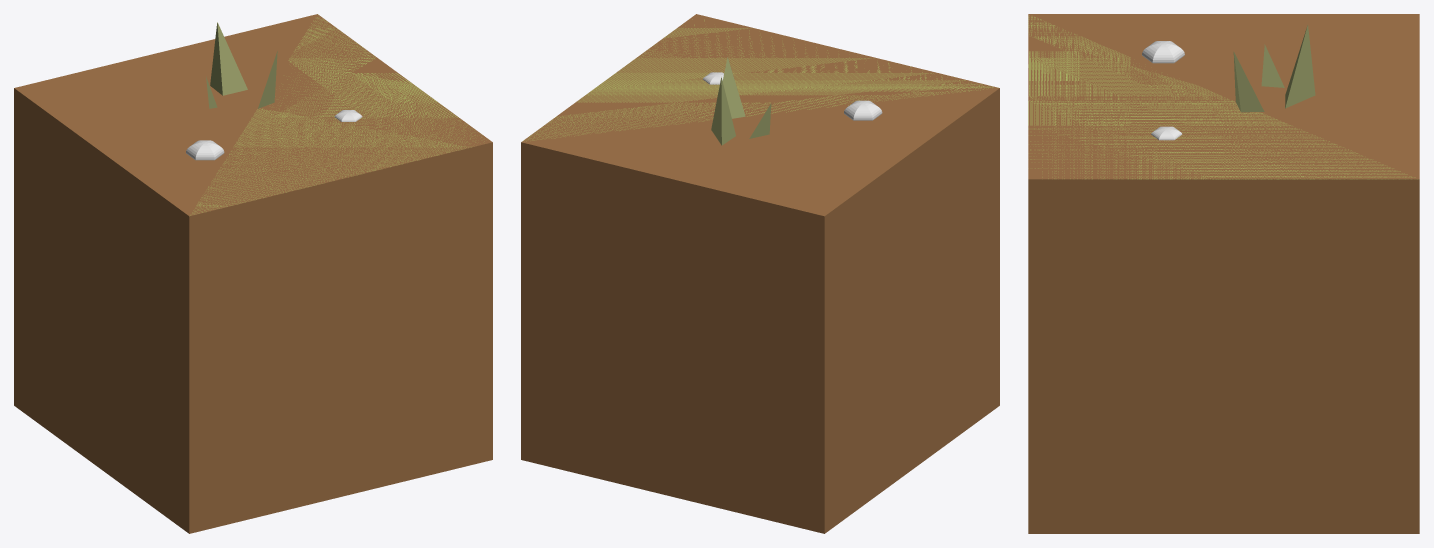
File: grass-tile-1-transformed.glb
3 renders of one model, left to right at view 1: azimuth 30°, elevation 25°; view 2: azimuth 150°, elevation 25°; view 3: azimuth 270°, elevation 25°, orthographic. The views are drawn at different scales.
Parts seen in each view (by area): view 1: Cube, Grass, Grass 1, Sphere; view 2: Cube, Grass, Grass 1, Sphere; view 3: Cube, Grass, Grass 1, Sphere.
Part boxes in pixels (bbox=[...]): Cube: bbox=[14, 14, 492, 533]; Grass: bbox=[190, 17, 484, 215]; Grass 1: bbox=[206, 22, 277, 108]; Sphere: bbox=[186, 110, 362, 160]; Cube: bbox=[521, 14, 999, 533]; Grass: bbox=[523, 19, 997, 141]; Grass 1: bbox=[711, 57, 771, 145]; Sphere: bbox=[702, 72, 882, 120]; Cube: bbox=[1028, 14, 1419, 533]; Grass: bbox=[1028, 15, 1417, 179]; Grass 1: bbox=[1233, 25, 1315, 112]; Sphere: bbox=[1142, 41, 1184, 140].
Size of the model in its own units: 2 by 2.41 by 2.
